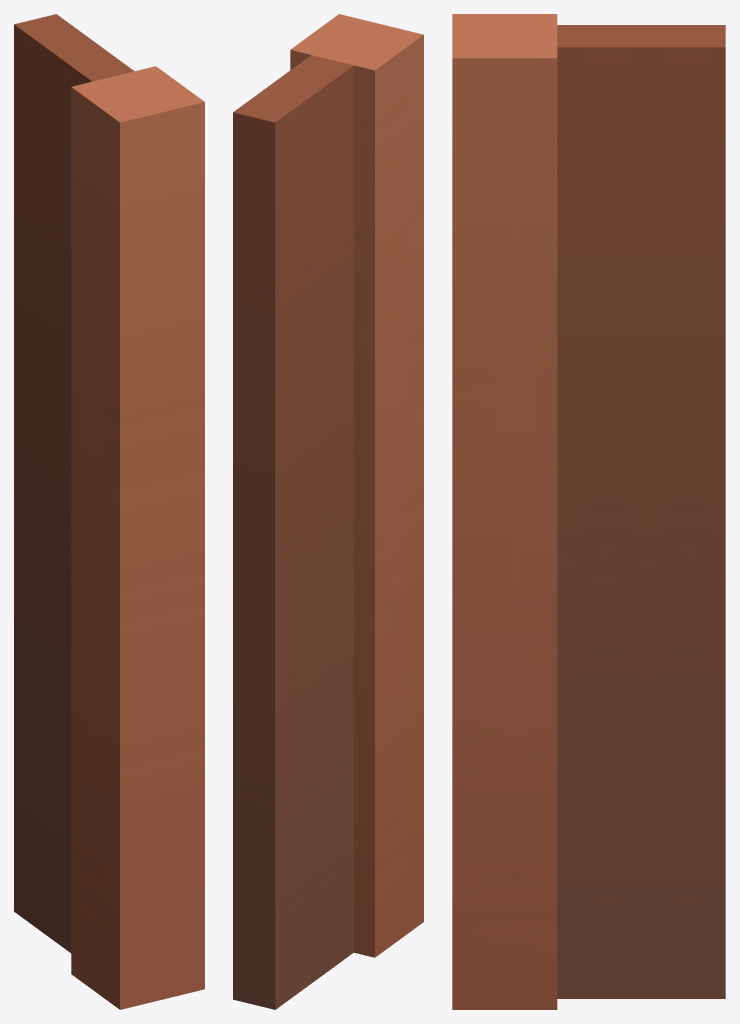
The model's file is wallWoodSide.fbx.
3 views of the same model, side by side, from view 1: azimuth 30°, elevation 25°; view 2: azimuth 150°, elevation 25°; view 3: azimuth 270°, elevation 25° (orthographic). The views are drawn at different scales.
Visible parts, largest first — view 1: wallWoodSide; view 2: wallWoodSide; view 3: wallWoodSide.
Boxes of the visible parts, x1=… form: wallWoodSide: x1=14, y1=14, x2=204, y2=1009; wallWoodSide: x1=233, y1=14, x2=423, y2=1009; wallWoodSide: x1=452, y1=14, x2=725, y2=1009.
Size of the model in its own units: 0.1 by 0.26 by 1.
